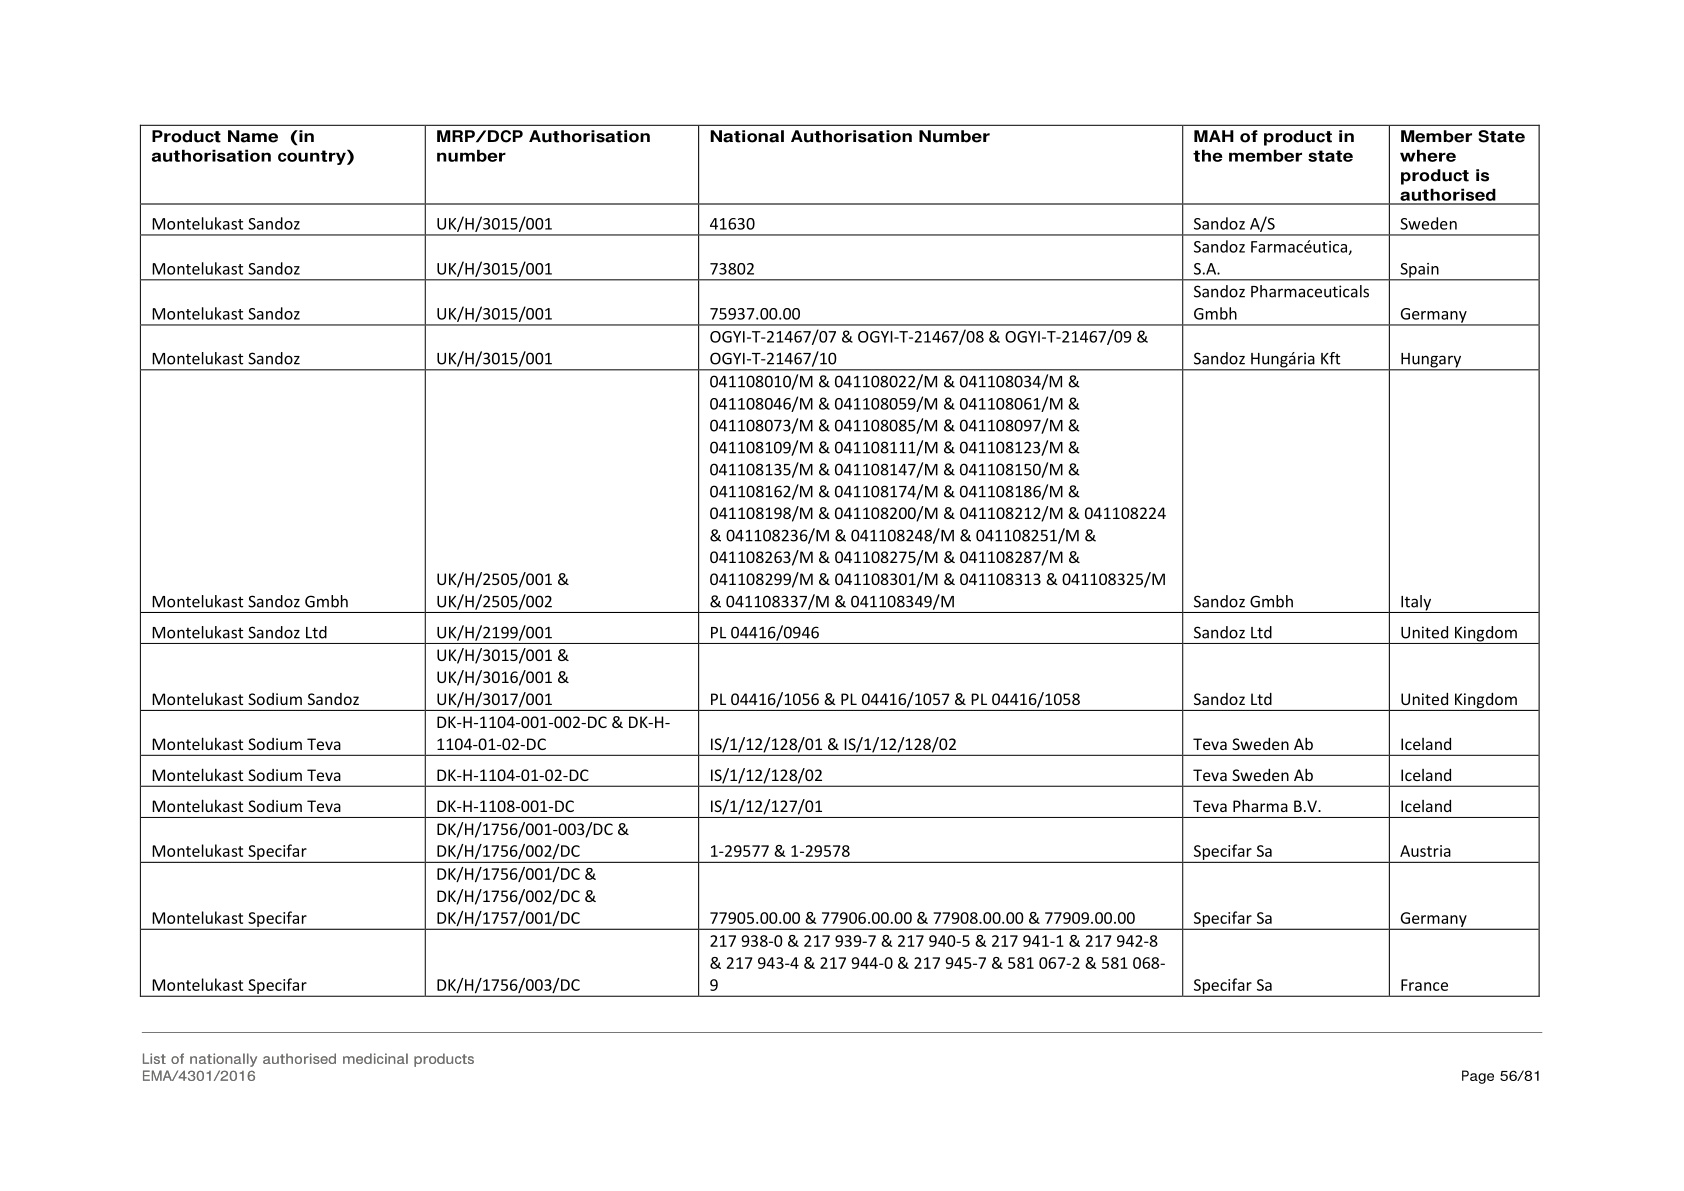full_lined: (139, 122, 1541, 998)
